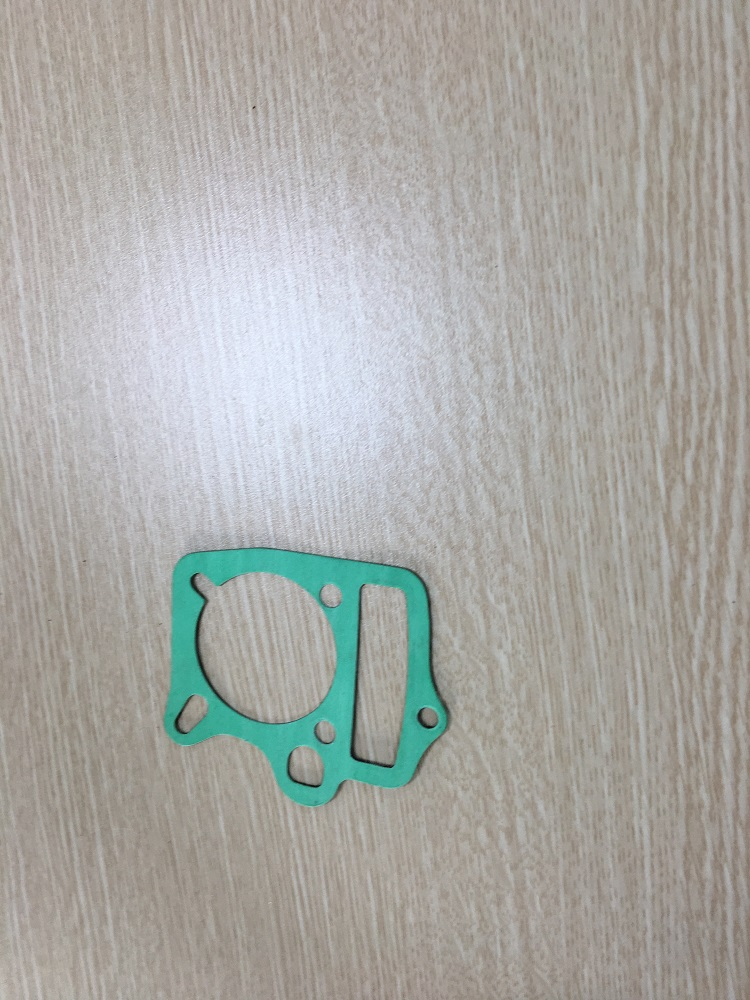circle 1: (174, 557, 348, 727)
circle 2: (270, 742, 341, 800)
circle 3: (159, 686, 227, 751)
circle 4: (307, 571, 356, 621)
circle 5: (403, 696, 447, 746)
circle 6: (336, 572, 420, 781)
object: (142, 510, 473, 831)
